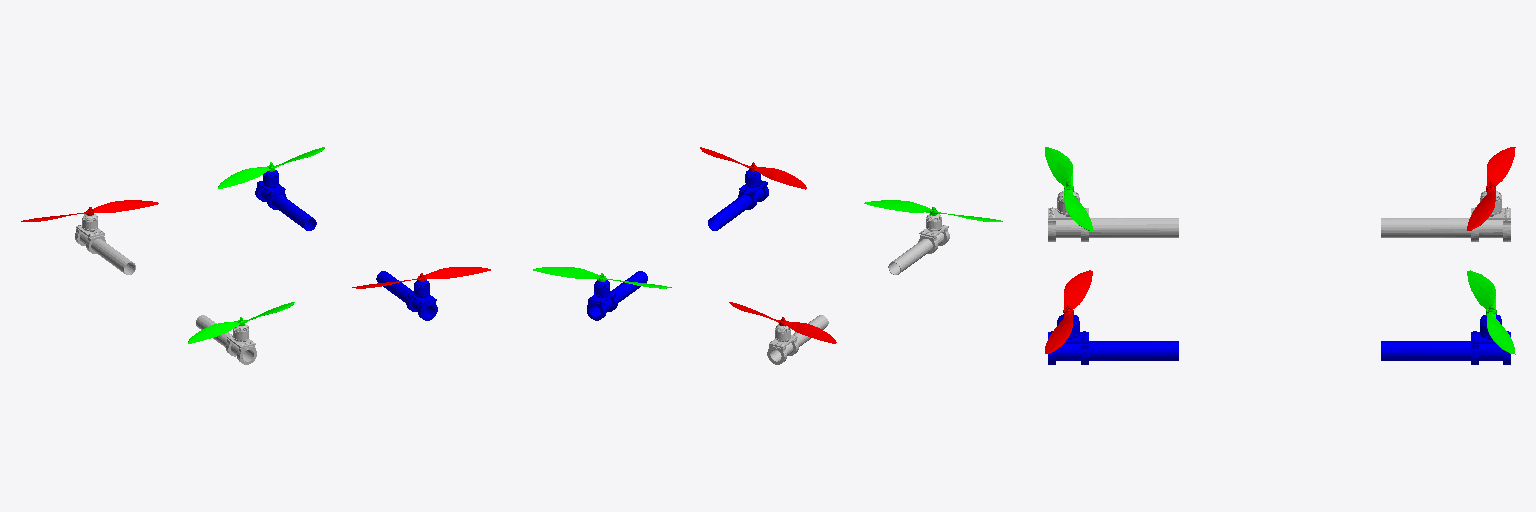
The robot description file, URDF, robot "lophorina":
<?xml version="1.0"?>
<robot name="lophorina">

  <material name="gray">
    <color rgba="0.8 0.8 0.8 1"/>
  </material>

  <material name="blue">
    <color rgba="0 0 1 1"/>
  </material>

  <material name="black">
    <color rgba="0 0 0 1"/>
  </material>

  <material name="red">
    <color rgba="1 0 0 1"/>
  </material>

  <material name="green">
    <color rgba="0 1 0 1"/>
  </material>

  <link name="odom">  
  </link>  

  <joint name="odom_to_base_link" type="fixed">
    <parent link="odom"/>
    <child link="base_link"/>
  </joint>

  <link name="base_link">
    <visual>
      <geometry>
        <mesh filename="package://lophorina/meshes/robot_body.stl" scale="0.001 0.001 0.001"/>
      </geometry>
      <origin rpy="0 0 1.57079632679"/>
      <material name="black"/>
    </visual>
    <collision>
      <origin xyz="0 0 0.05"/>
      <geometry>
        <box size="0.6 0.8 0.1"/>        
      </geometry>
    </collision>
    <inertial>
	  <!-- Volume:  1.2327948124e+06 -->
	  <mass value="1.5"/>

	  <!-- Center of mass:  1.4152750000e-02  7.9666542000e-01  2.5105856930e+01 -->
	  <pose>  1.4166e-05  7.96665e-04  2.5105858e-02 0 0 0 </pose>

	  <!-- Inertia matrix -->
	  <inertia
	    ixx="4.1954e-02"
	    ixy="1.6879e-08"
	    ixz="2.2501e-09"
	    iyy="6.8166e-03"
	    iyz="-2.2635e-06"
	    izz="4.8090e-02"/>
	  
   </inertial>
  </link>
  <link name="motor_front_right">
    <visual>
      <geometry>
        <mesh filename="package://lophorina/meshes/tilt_motor.stl" scale="0.001 0.001 0.001"/>
      </geometry>
      <material name="blue"/>
      <origin rpy="0 0 1.57079632679" xyz="0 0 0"/>
    </visual>
    <inertial>
	  <!-- Volume:  4.3863842816e+04 -->
	  <mass value="0.15"/>

	  <!-- Center of mass:  1.1607480469e+02  1.2213770750e+01  1.8455069580e+01 -->
	  <pose>  1.16074806e-01 1.2213773e-02 1.8455067e-02 0 0 0 </pose>

	  <!-- Inertia matrix -->
	  <inertia
	    ixx="6.5200e-05"
	    ixy="-1.8405e-06"
	    ixz="-4.4279e-05"
	    iyy="2.7136e-04"
	    iyz="-5.5407e-07"
	    izz="2.2969e-04"/>
	  
    </inertial>
  </link>

  <link name="motor_front_left">
    <visual>
      <geometry>
        <mesh filename="package://lophorina/meshes/tilt_motor.stl" scale="0.001 0.001 0.001"/>
      </geometry>
      <material name="blue"/>
      <origin rpy="0 0 -1.57079632679" xyz="0 0 0"/>
    </visual>
   <inertial>
	  <!-- Volume:  4.3863842816e+04 -->
	  <mass value="0.15"/>

	  <!-- Center of mass:  1.1607480469e+02  1.2213770750e+01  1.8455069580e+01 -->
	  <pose>  1.16074806e-01 1.2213773e-02 1.8455067e-02 0 0 0 </pose>

	  <!-- Inertia matrix -->
	  <inertia
	    ixx="6.5200e-05"
	    ixy="-1.8405e-06"
	    ixz="-4.4279e-05"
	    iyy="2.7136e-04"
	    iyz="-5.5407e-07"
	    izz="2.2969e-04"/>
	
   </inertial>
  </link>

  <link name="motor_back_right">
    <visual>
      <geometry>
        <mesh filename="package://lophorina/meshes/tilt_motor.stl" scale="0.001 0.001 0.001"/>
      </geometry>
      <material name="gray"/>
      <origin rpy="0 0 1.57079632679" xyz="0 0 0"/>
    </visual>
    <inertial>
	  <!-- Volume:  4.3863842816e+04 -->
	  <mass value="0.15"/>

	  <!-- Center of mass:  1.1607480469e+02  1.2213770750e+01  1.8455069580e+01 -->
	  <pose>  1.16074806e-01 1.2213773e-02 1.8455067e-02 0 0 0 </pose>

	  <!-- Inertia matrix -->
	  <inertia
	    ixx="6.5200e-05"
	    ixy="-1.8405e-06"
	    ixz="-4.4279e-05"
	    iyy="2.7136e-04"
	    iyz="-5.5407e-07"
	    izz="2.2969e-04"/>
	  
</inertial>
  </link>

  <link name="motor_back_left">
    <visual>
      <geometry>
        <mesh filename="package://lophorina/meshes/tilt_motor.stl" scale="0.001 0.001 0.001"/>
      </geometry>
      <material name="gray"/>
      <origin rpy="0 0 -1.57079632679" xyz="0 0 0"/>
    </visual>
    <inertial>
	  <!-- Volume:  4.3863842816e+04 -->
	  <mass value="0.15"/>

	  <!-- Center of mass:  1.1607480469e+02  1.2213770750e+01  1.8455069580e+01 -->
	  <pose>  1.16074806e-01 1.2213773e-02 1.8455067e-02 0 0 0 </pose>

	  <!-- Inertia matrix -->
	  <inertia
	    ixx="6.5200e-05"
	    ixy="-1.8405e-06"
	    ixz="-4.4279e-05"
	    iyy="2.7136e-04"
	    iyz="-5.5407e-07"
	    izz="2.2969e-04"/>
	  
   </inertial>
  </link>

  <link name="front_right_propeller">
    <visual>
      <geometry>
        <mesh filename="package://lophorina/meshes/cw_propeller.stl" scale="0.001 0.001 0.001"/>
      </geometry>
      <origin xyz="0 0 0"/>
      <material name="green"/>
    </visual>
    <inertial>
	  <!-- Volume:  6.4020546560e+03 -->
	  <mass value="0.008"/>

	  <!-- Center of mass: -7.6309433000e-01 -1.5900170000e-02  5.6214502000e+00 -->
	  <pose> 0 0 5.621359e-03 0 0 0</pose>

	  <!-- Inertia matrix -->
	  <inertia
	    ixx="1.0083e-06"
	    ixy="-4.9698e-06"
	    ixz="-1.5179e-08"
	    iyy="3.3832e-05"
	    iyz="-1.8552e-09"
	    izz="3.4773e-05"/>
	  
   </inertial>   
  </link>
  <gazebo reference="front_right_propeller">
    <material>Gazebo/Orange</material>
  </gazebo>

  <gazebo>
    <plugin name="front_right_propeller_model_push" filename="libhelice_push.so">
          <link_name>front_right_propeller</link_name>
          <force>20</force>
    </plugin>
  </gazebo>


  <link name="front_left_propeller">
    <visual>
      <geometry>
        <mesh filename="package://lophorina/meshes/ccw_propeller.stl" scale="0.001 0.001 0.001"/>
      </geometry>
      <material name="red"/>
    </visual>
    <inertial>
	     <!-- Volume:  6.4020546560e+03 -->
	     <mass value="0.008"/>

	     <!-- Center of mass: -1.2450975000e+00  4.7389927000e-01  5.6214502000e+00 -->
	     <pose> 0 0 5.621359e-03 0 0 0</pose>

	     <!-- Inertia matrix -->
	     <inertia
	 	    ixx="1.0084e-06"
	    	ixy="4.9698e-06"
	    	ixz="-1.5181e-08"
	    	iyy="3.3832e-05"
	    	iyz="1.8550e-09"
	    	izz="3.4773e-05"/>
	     
   </inertial>
  </link>
  <gazebo>
    <plugin name="front_left_propeller_model_push" filename="libhelice_push.so">
          <link_name>front_left_propeller</link_name>
          <force>20</force>
          <dir>ccw</dir>
    </plugin>
  </gazebo>

  <gazebo reference="front_left_propeller">
    <material>Gazebo/Red</material>
  </gazebo>


  <link name="back_left_propeller">
    <visual>
      <geometry>
        <mesh filename="package://lophorina/meshes/cw_propeller.stl" scale="0.001 0.001 0.001"/>
      </geometry>
      <material name="green"/>
    </visual>
    <inertial>
	  <!-- Volume:  6.4020546560e+03 -->
	  <mass value="0.008"/>

	  <!-- Center of mass: -7.6309433000e-01 -1.5900170000e-02  5.6214502000e+00 -->
	  <pose> 0 0 5.621359e-03 0 0 0</pose>

	  <!-- Inertia matrix -->
	  <inertia
	    ixx="1.0083e-06"
	    ixy="-4.9698e-06"
	    ixz="-1.5179e-08"
	    iyy="3.3832e-05"
	    iyz="-1.8552e-09"
	    izz="3.4773e-05"/>
	  
   </inertial>
  </link>

  <gazebo reference="back_left_propeller">
    <material>Gazebo/Green</material>
  </gazebo>

  <gazebo>
    <plugin name="back_left_propeller_model_push" filename="libhelice_push.so">
          <link_name>back_left_propeller</link_name>
          <force>20</force>
    </plugin>
  </gazebo>

  <link name="back_right_propeller">
    <visual>
      <geometry>
        <mesh filename="package://lophorina/meshes/ccw_propeller.stl" scale="0.001 0.001 0.001"/>
      </geometry>
      <material name="red"/>
    </visual>
    <inertial>
	    <!-- Volume:  6.4020546560e+03 -->
	    <mass value="0.008"/>

      <!-- Center of mass: -1.2450975000e+00  4.7389927000e-01  5.6214502000e+00 -->
      <pose> 0 0 5.621359e-03 0 0 0</pose>

      <!-- Inertia matrix -->
      <inertia
	 	    ixx="1.0084e-06"
	    	ixy="4.9698e-06"
	    	ixz="-1.5181e-08"
	    	iyy="3.3832e-05"
	    	iyz="1.8550e-09"
	    	izz="3.4773e-05"/>

   </inertial>
  </link>

  <gazebo reference="back_right_propeller">
    <material>Gazebo/Blue</material>
  </gazebo>

  <gazebo>
    <plugin name="back_right_propeller_model_push" filename="libhelice_push.so">
          <link_name>back_right_propeller</link_name>
          <force>20</force>
          <dir>ccw</dir>
    </plugin>
  </gazebo>
  
  <joint name="base_link_to_motor_front_right" type="revolute">
    <limit effort="1000.0" velocity="0.5" lower="-0.78539816339" upper="0.78539816339"/>
    <parent link="base_link"/>
    <child link="motor_front_right"/>
    <axis xyz="0 1 0"/>
    <origin xyz="0.1825 0.126 0.025"/>
  </joint>

  <transmission name="base_link_to_motor_front_right_trans">
    <type>transmission_interface/SimpleTransmission</type>
    <actuator name="$base_link_to_motor_front_right_motor">
      <mechanicalReduction>1</mechanicalReduction>
    </actuator>
    <joint name="base_link_to_motor_front_right">
      <hardwareInterface>hardware_interface/PositionJointInterface</hardwareInterface>
    </joint>
  </transmission>

  <joint name="base_link_to_motor_front_left" type="revolute">
    <limit effort="1000.0" velocity="0.5" lower="-0.78539816339" upper="0.78539816339"/>
    <parent link="base_link"/>
    <child link="motor_front_left"/>
    <axis xyz="0 1 0"/>
    <origin xyz="0.1825 -0.126 0.025"/>
  </joint>

  <transmission name="base_link_to_motor_front_left_trans">
    <type>transmission_interface/SimpleTransmission</type>
    <actuator name="$base_link_to_motor_front_left_motor">
      <mechanicalReduction>1</mechanicalReduction>
    </actuator>
    <joint name="base_link_to_motor_front_left">
      <hardwareInterface>hardware_interface/PositionJointInterface</hardwareInterface>
    </joint>
  </transmission>

  <joint name="base_link_to_motor_back_right" type="revolute">
    <limit effort="1000.0" velocity="0.5" lower="-0.78539816339" upper="0.78539816339"/>
    <parent link="base_link"/>
    <child link="motor_back_right"/>
    <axis xyz="0 1 0"/>
    <origin xyz="-0.1825 0.126 0.025"/>
  </joint>

  <transmission name="base_link_to_motor_back_right_trans">
    <type>transmission_interface/SimpleTransmission</type>
    <actuator name="$base_link_to_motor_back_right_motor">
      <mechanicalReduction>1</mechanicalReduction>
    </actuator>
    <joint name="base_link_to_motor_back_right">
      <hardwareInterface>hardware_interface/PositionJointInterface</hardwareInterface>
    </joint>
  </transmission>

  <joint name="base_link_to_motor_back_left" type="revolute">
    <limit effort="1000.0" velocity="0.5" lower="-0.78539816339" upper="0.78539816339"/>
    <parent link="base_link"/>
    <child link="motor_back_left"/>
    <axis xyz="0 1 0"/>
    <origin xyz="-0.1825 -0.126 0.025"/>
  </joint>

  <transmission name="base_link_to_motor_back_left_trans">
    <type>transmission_interface/SimpleTransmission</type>
    <actuator name="$base_link_to_motor_back_left_motor">
      <mechanicalReduction>1</mechanicalReduction>
    </actuator>
    <joint name="base_link_to_motor_back_left">
      <hardwareInterface>hardware_interface/PositionJointInterface</hardwareInterface>
    </joint>
  </transmission>

  <joint name="motor_front_right_to_front_right_propeller" type="continuous">
    <limit effort="100" velocity="10000"/>
    <parent link="motor_front_right"/>
    <child link="front_right_propeller"/>
    <axis xyz="0 0 1"/>
    <origin xyz="0 0.138 0.05"/>
  </joint>

  <transmission name="motor_front_right_to_front_right_propeller_trans">
    <type>transmission_interface/SimpleTransmission</type>
    <actuator name="$motor_front_right_to_front_right_propeller_motor">
      <mechanicalReduction>1</mechanicalReduction>
    </actuator>
    <joint name="motor_front_right_to_front_right_propeller">
      <hardwareInterface>hardware_interface/VelocityJointInterface</hardwareInterface>
    </joint>
  </transmission>

  <joint name="motor_front_left_to_front_left_propeller" type="continuous">
    <limit effort="100" velocity="10000"/>
    <parent link="motor_front_left"/>
    <child link="front_left_propeller"/>
    <axis xyz="0 0 1"/>
    <origin xyz="0 -0.138 0.05"/>
  </joint>

  <transmission name="motor_front_left_to_front_left_propeller_trans">
    <type>transmission_interface/SimpleTransmission</type>
    <actuator name="$motor_front_left_to_front_left_propeller_motor">
      <mechanicalReduction>1</mechanicalReduction>
    </actuator>
    <joint name="motor_front_left_to_front_left_propeller">
      <hardwareInterface>hardware_interface/VelocityJointInterface</hardwareInterface>
    </joint>
  </transmission>

  <joint name="motor_back_right_to_back_right_propeller" type="continuous">
    <limit effort="100" velocity="10000"/>
    <parent link="motor_back_right"/>
    <child link="back_right_propeller"/>
    <axis xyz="0 0 1"/>
    <origin xyz="0 0.138 0.05"/>
  </joint>

  <transmission name="motor_back_right_to_back_right_propeller_trans">
    <type>transmission_interface/SimpleTransmission</type>
    <actuator name="$motor_back_right_to_back_right_propeller_motor">
      <mechanicalReduction>1</mechanicalReduction>
    </actuator>
    <joint name="motor_back_right_to_back_right_propeller">
      <hardwareInterface>hardware_interface/VelocityJointInterface</hardwareInterface>
    </joint>
  </transmission>

  <joint name="motor_back_left_to_back_left_propeller" type="continuous">
    <limit effort="100" velocity="10000"/>
    <parent link="motor_back_left"/>
    <child link="back_left_propeller"/>
    <axis xyz="0 0 1"/>
    <origin xyz="0 -0.138 0.05"/>
  </joint>

  <transmission name="motor_back_left_to_back_left_propeller_trans">
    <type>transmission_interface/SimpleTransmission</type>
    <actuator name="$motor_back_left_to_back_left_propeller_motor">
      <mechanicalReduction>1</mechanicalReduction>
    </actuator>
    <joint name="motor_back_left_to_back_left_propeller">
      <hardwareInterface>hardware_interface/VelocityJointInterface</hardwareInterface>
    </joint>
  </transmission>

  <!-- Gazebo plugin for ROS Control -->
  <gazebo>
    <plugin name="lopho_control" filename="libgazebo_ros_control.so">
      <robotNamespace>/lophorina</robotNamespace>
    </plugin>
  </gazebo>

</robot>

--- Facts derived from the render (not from the file) ---
3 views of the same robot in one strip: view 1: azimuth 30°, elevation 25°; view 2: azimuth 150°, elevation 25°; view 3: azimuth 270°, elevation 25° (orthographic).
Robot: lophorina — 10 links, 9 joints (4 revolute, 4 continuous, 1 fixed); root link odom; default pose: every joint at zero.
Visible links, largest first — view 1: motor_back_right, motor_front_right, motor_front_left, motor_back_left, back_right_propeller, front_left_propeller, front_right_propeller, back_left_propeller; view 2: motor_back_left, motor_front_left, motor_front_right, motor_back_right, back_left_propeller, front_right_propeller, back_right_propeller, front_left_propeller; view 3: motor_front_left, motor_back_left, motor_front_right, motor_back_right, front_right_propeller, front_left_propeller, back_right_propeller, back_left_propeller.
Boxes of the visible links, x1,y1,x2,y2 form: motor_back_right: [75, 214, 135, 274]; motor_front_right: [255, 170, 316, 230]; motor_front_left: [376, 271, 437, 320]; motor_back_left: [196, 315, 256, 364]; back_right_propeller: [21, 200, 158, 221]; front_left_propeller: [352, 267, 490, 288]; front_right_propeller: [218, 147, 324, 188]; back_left_propeller: [188, 302, 294, 343]; motor_back_left: [888, 214, 949, 274]; motor_front_left: [708, 169, 768, 230]; motor_front_right: [587, 271, 647, 320]; motor_back_right: [767, 315, 828, 364]; back_left_propeller: [864, 200, 1002, 221]; front_right_propeller: [533, 267, 671, 288]; back_right_propeller: [729, 302, 836, 343]; front_left_propeller: [700, 147, 806, 189]; motor_front_left: [1048, 314, 1178, 364]; motor_back_left: [1048, 191, 1178, 241]; motor_front_right: [1381, 314, 1510, 364]; motor_back_right: [1381, 191, 1510, 241]; front_right_propeller: [1467, 270, 1515, 354]; front_left_propeller: [1045, 270, 1092, 353]; back_right_propeller: [1467, 147, 1515, 230]; back_left_propeller: [1045, 147, 1092, 230].
Size in the robot's own frame: 0.612 by 0.5885 by 0.0821 metres.
8 mesh visuals loaded from 4 distinct referenced files (3 binary STL); not drawn: 1 (reference not matched to a file when rendering).